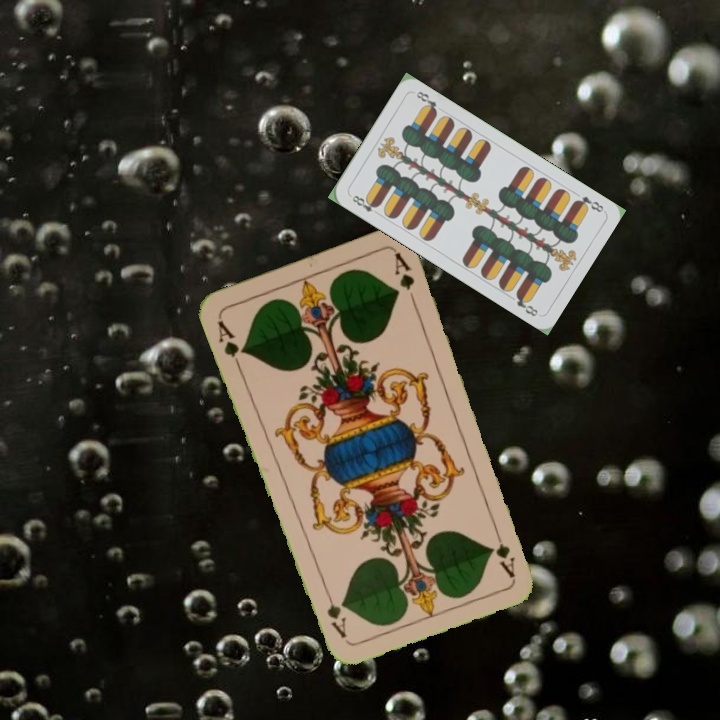E8: (346, 191, 382, 218), (571, 192, 606, 215)
GA: (213, 316, 248, 371), (489, 522, 518, 580)
